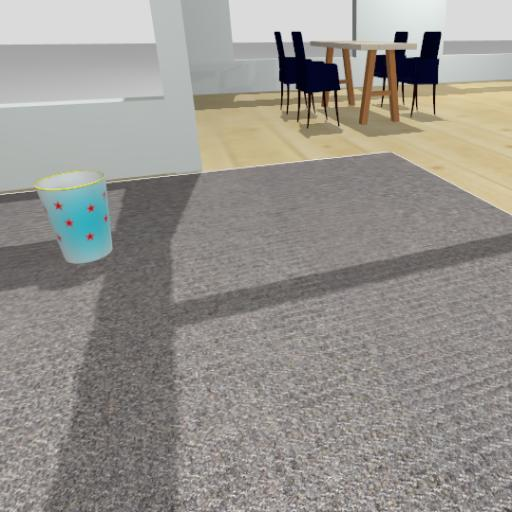Trash: (28, 161, 160, 285)
